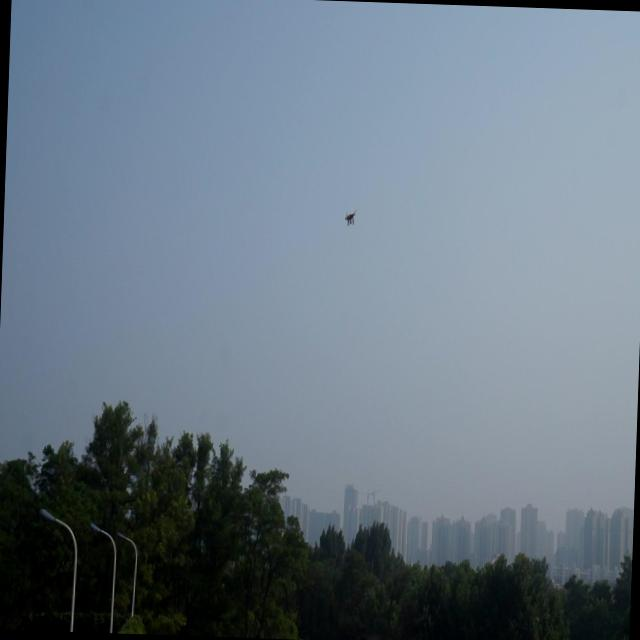drone: (342, 207, 358, 229)
